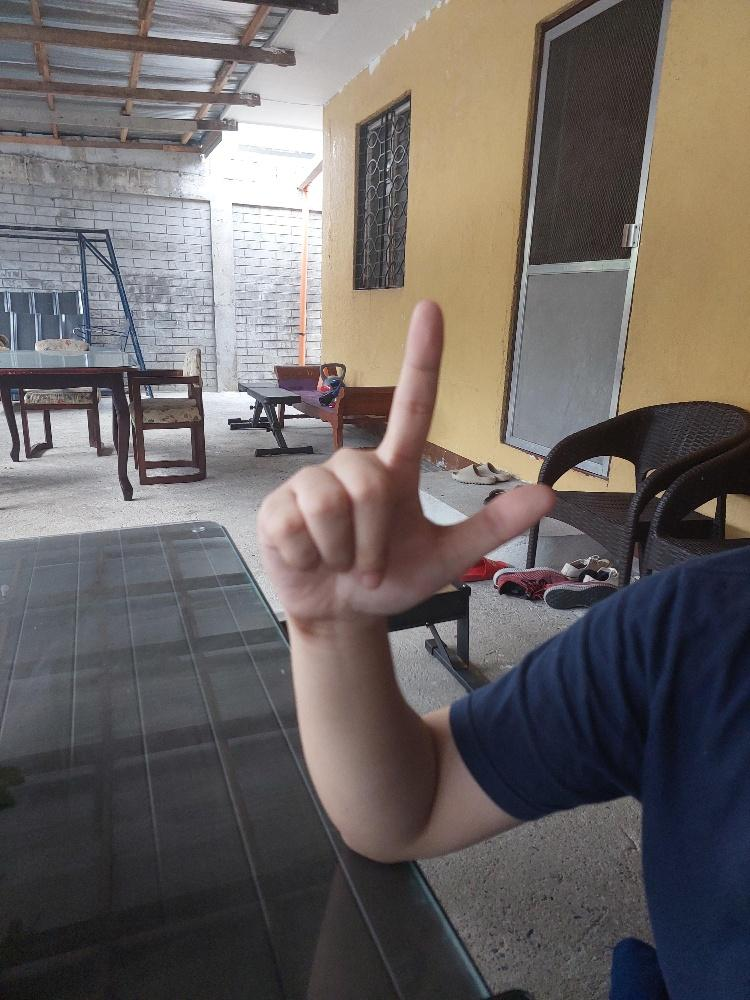l: (254, 294, 556, 623)
